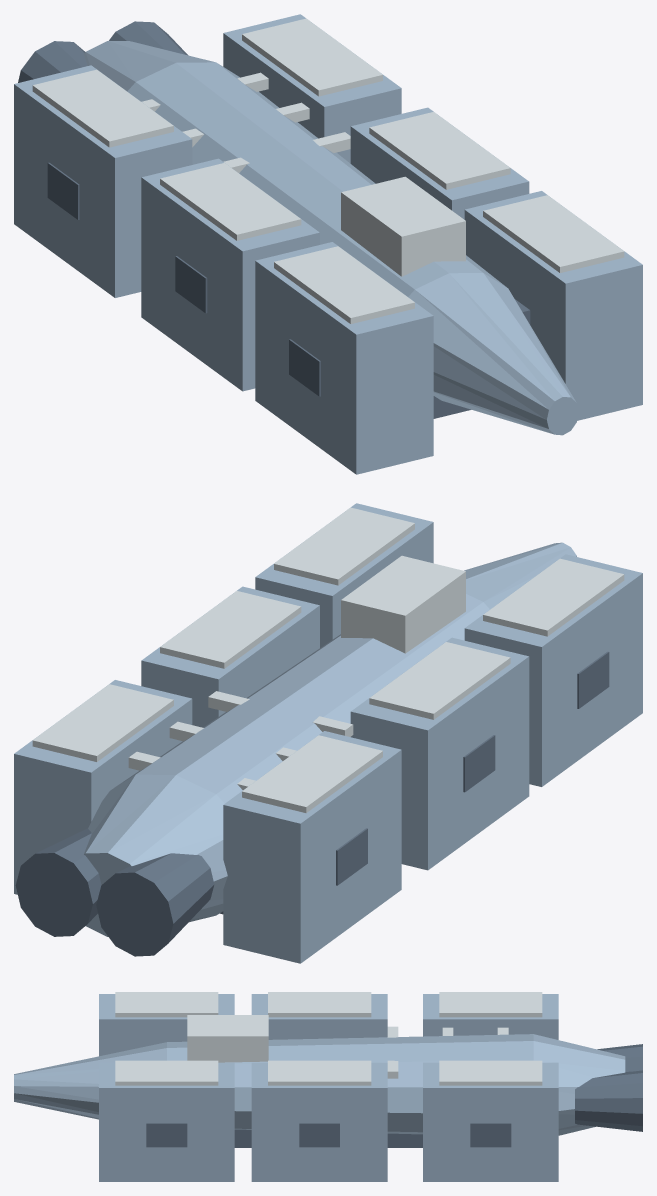
3 renders of one model, top to bottom at view 1: azimuth 30°, elevation 25°; view 2: azimuth 150°, elevation 25°; view 3: azimuth 270°, elevation 25°, orthographic. The views are drawn at different scales.
Bounding box in the file's own units: 3.67 × 1.97 × 10.28.
